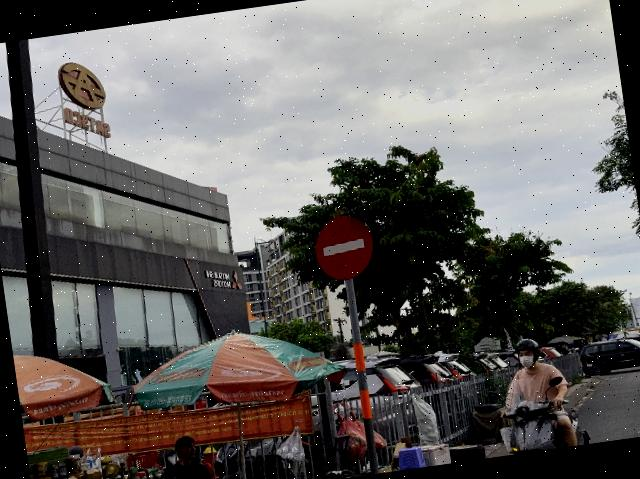cam-di-nguoc-chieu: (312, 212, 378, 284)
